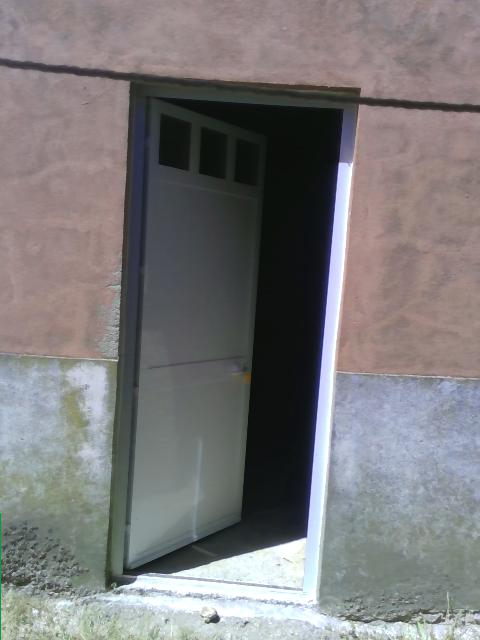semi_door: (103, 81, 365, 588)
